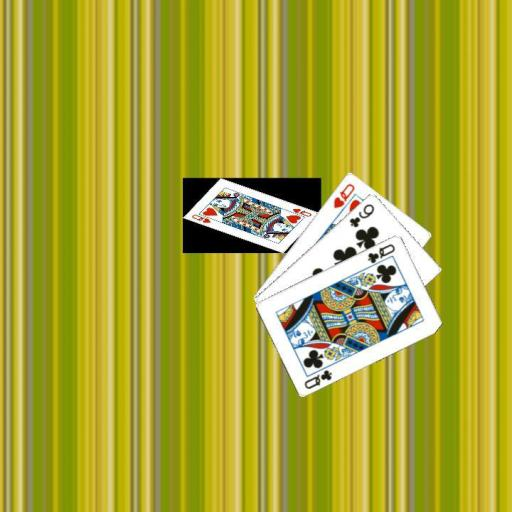9C: (347, 200, 376, 229)
QC: (364, 241, 397, 265), (301, 367, 333, 391)
QH: (330, 180, 356, 209)
